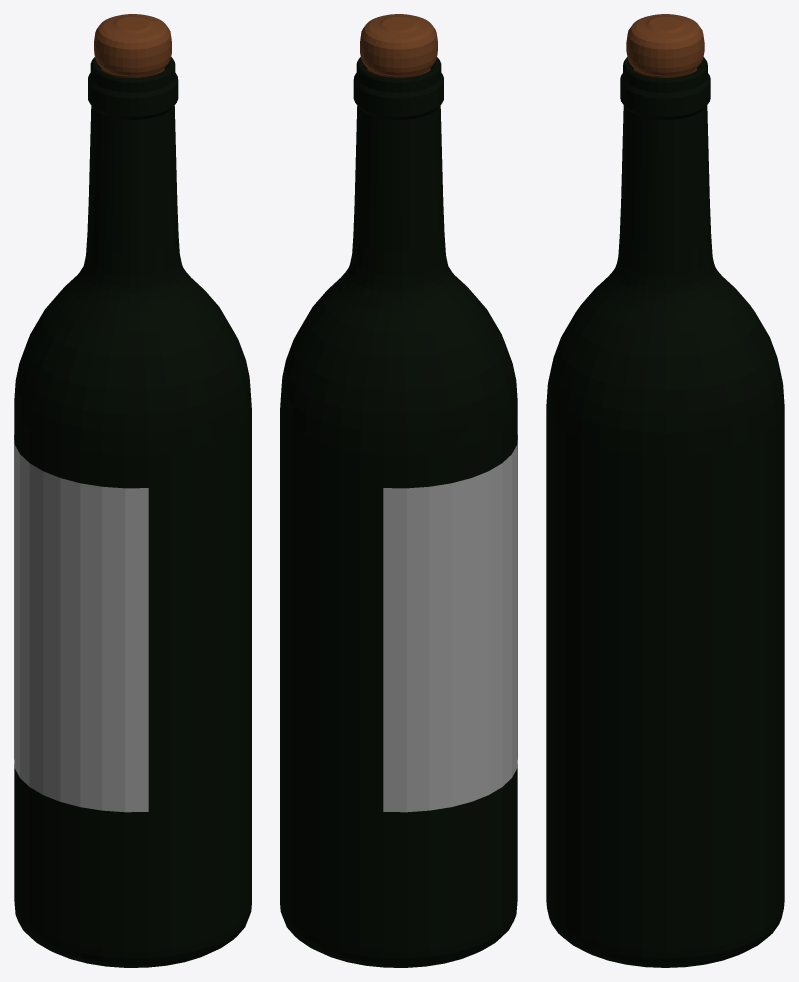
File: Wine_Bottle_White.fbx
3 renders of one model, left to right at view 1: azimuth 30°, elevation 25°; view 2: azimuth 150°, elevation 25°; view 3: azimuth 270°, elevation 25°, orthographic.
Parts seen in each view (by area): view 1: default; view 2: default; view 3: default.
Part boxes in pixels (box(x1,y1,x2,y2)): default: box(14, 14, 251, 967); default: box(280, 14, 517, 967); default: box(546, 14, 784, 967).
Bounding box in the file's own units: 0.0746 × 0.3113 × 0.0746.
